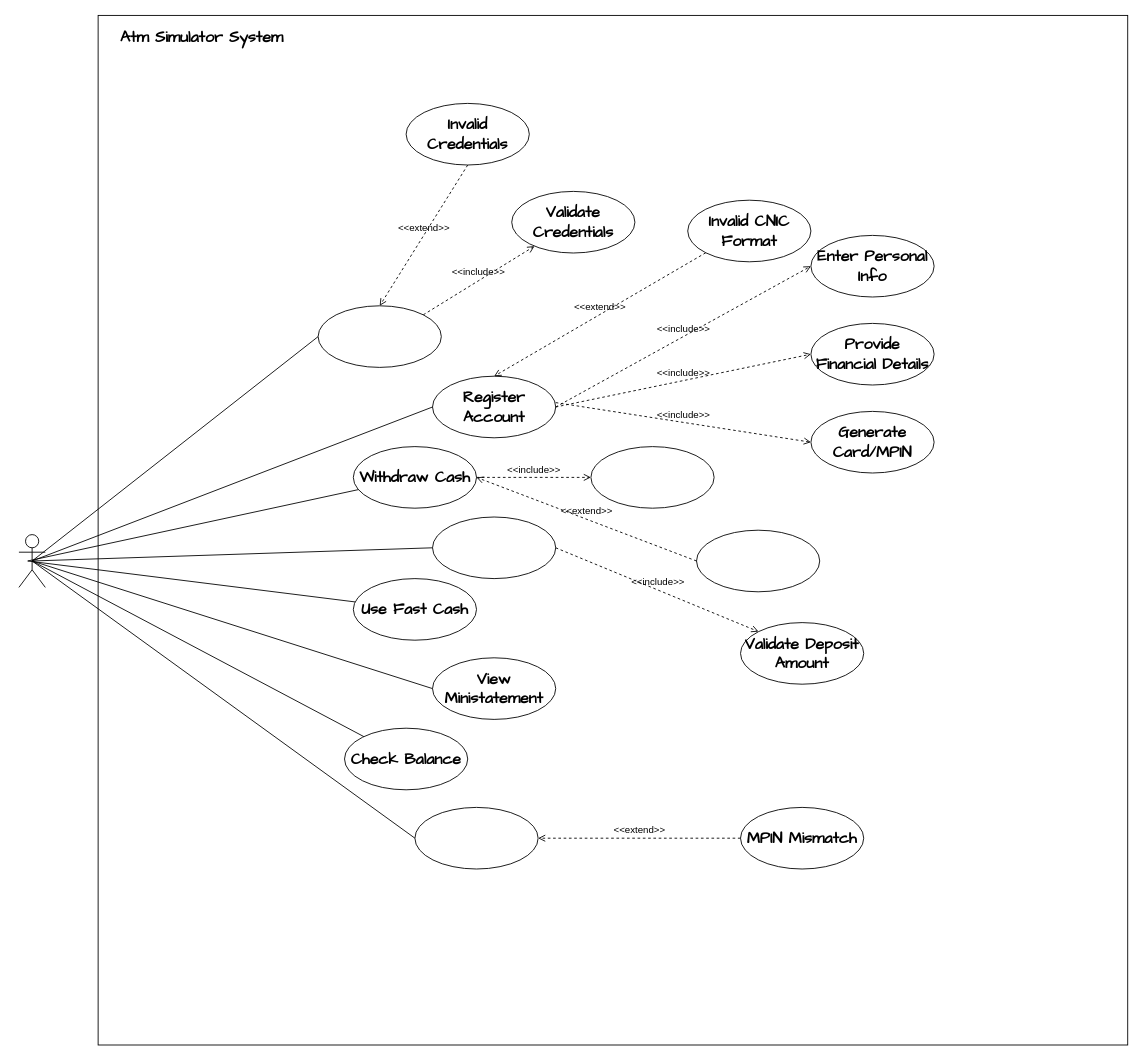
This 1143x1060 diagram has some shape labels left out. The centre of each missing label's shape, as x and y in pixels:
"Change MPIN" belongs at point (476, 838).
"Deposit Funds" belongs at point (494, 547).
"Insufficient Balance" belongs at point (758, 560).
"Login With MPIN" belongs at point (379, 336).
"User" belongs at point (31, 560).
"Validate Withdrawal Amount" belongs at point (652, 477).
